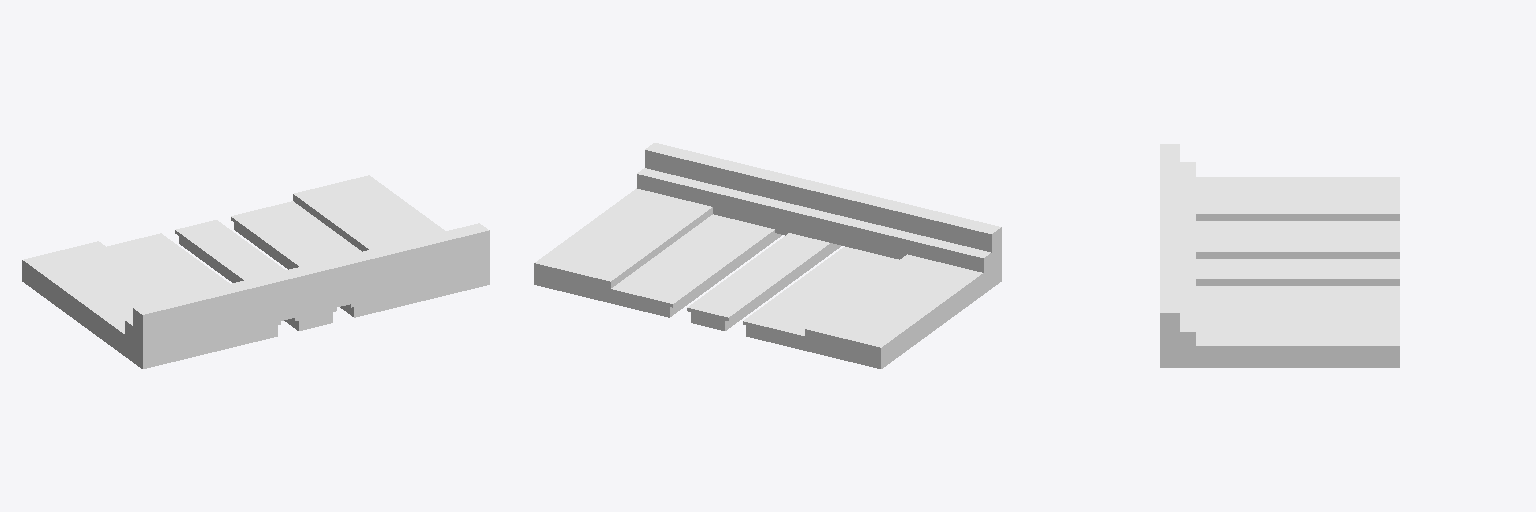
The model's file is Map_1_3.obj.
3 views of the same model, side by side, from view 1: azimuth 30°, elevation 25°; view 2: azimuth 150°, elevation 25°; view 3: azimuth 270°, elevation 25° (orthographic).
Parts seen in each view (by area): view 1: Map_1_3; view 2: Map_1_3; view 3: Map_1_3.
Boxes of the visible parts, x1=… form: Map_1_3: x1=22, y1=175, x2=489, y2=368; Map_1_3: x1=534, y1=143, x2=1001, y2=368; Map_1_3: x1=1160, y1=144, x2=1399, y2=367.
Bounding box in the file's own units: 10 × 1.5 × 6.